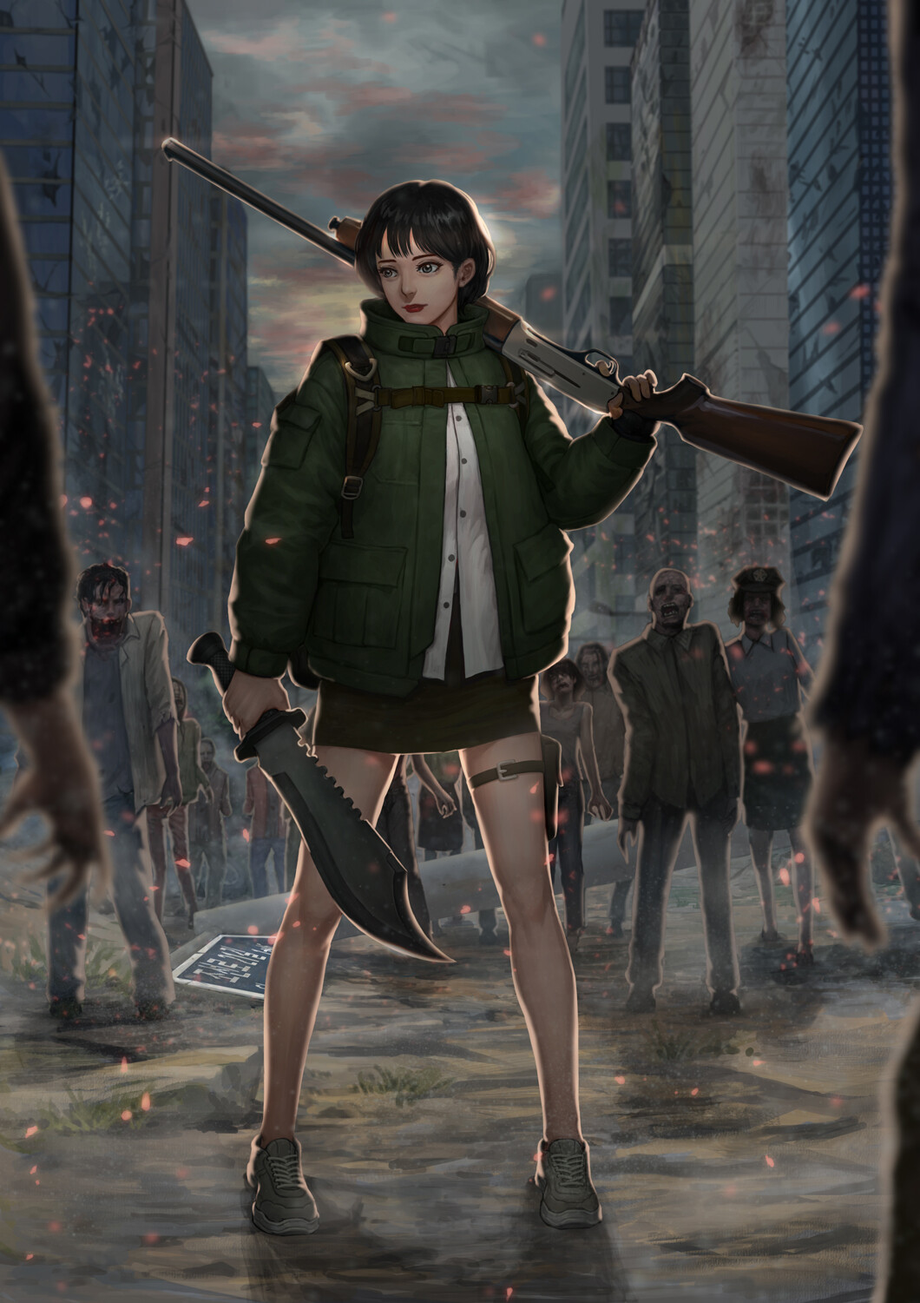-: (208, 190, 675, 1255), (606, 563, 747, 1021), (718, 565, 812, 937)
